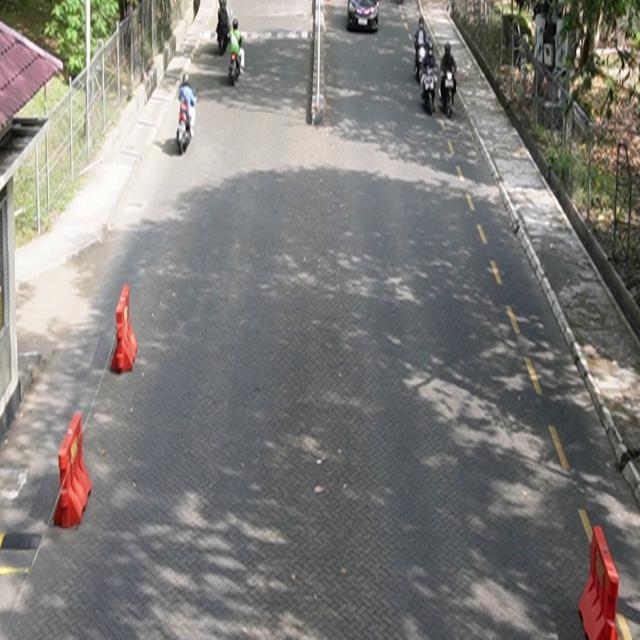car: (348, 1, 380, 33)
